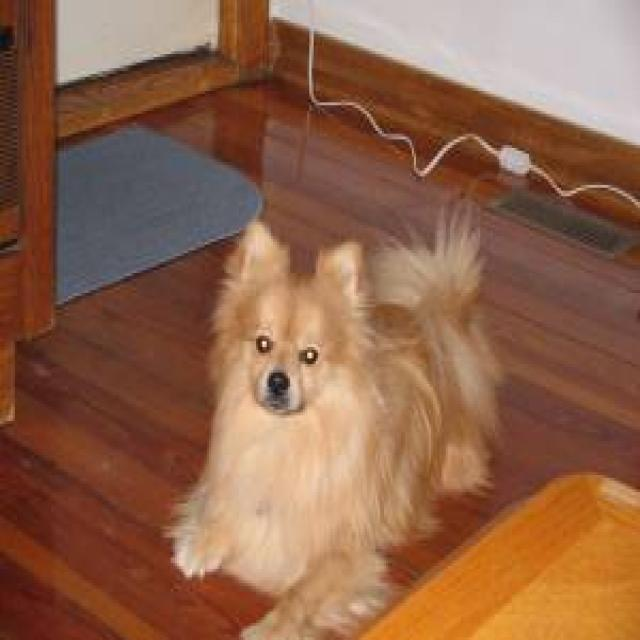dog-pomeranian: (173, 219, 499, 634)
